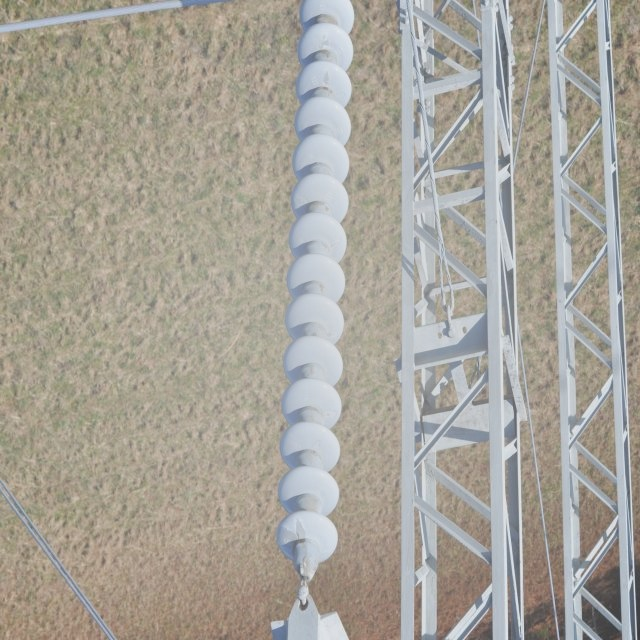insulator: (278, 0, 356, 563)
